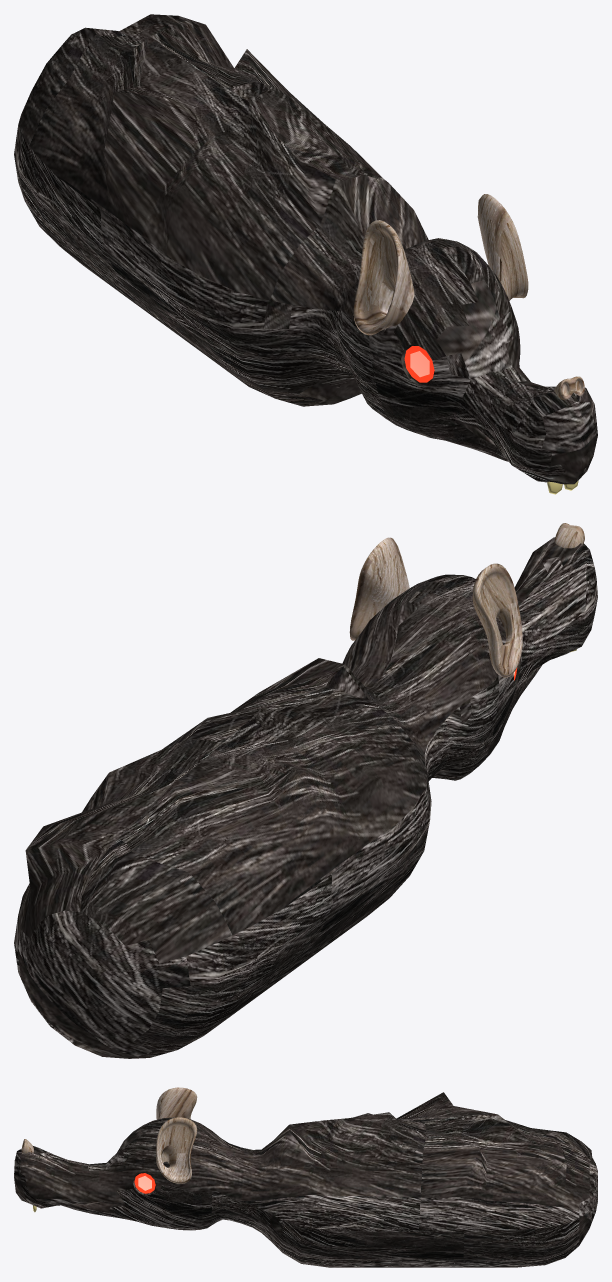
File: sorcio CORPO.fbx
The picture shows the model from 3 angles, top to bottom: view 1: azimuth 30°, elevation 25°; view 2: azimuth 150°, elevation 25°; view 3: azimuth 270°, elevation 25°; orthographic projection. The views are drawn at different scales.
Parts seen in each view (by area): view 1: polySurface2; view 2: polySurface2; view 3: polySurface2.
Part boxes in pixels (x1,y1,x2,y2): polySurface2: [14, 14, 597, 494]; polySurface2: [14, 523, 597, 1058]; polySurface2: [14, 1087, 597, 1267].
Size of the model in its own units: 21.41 by 24.18 by 80.37.
Materials: 5 (2 with a texture image).
